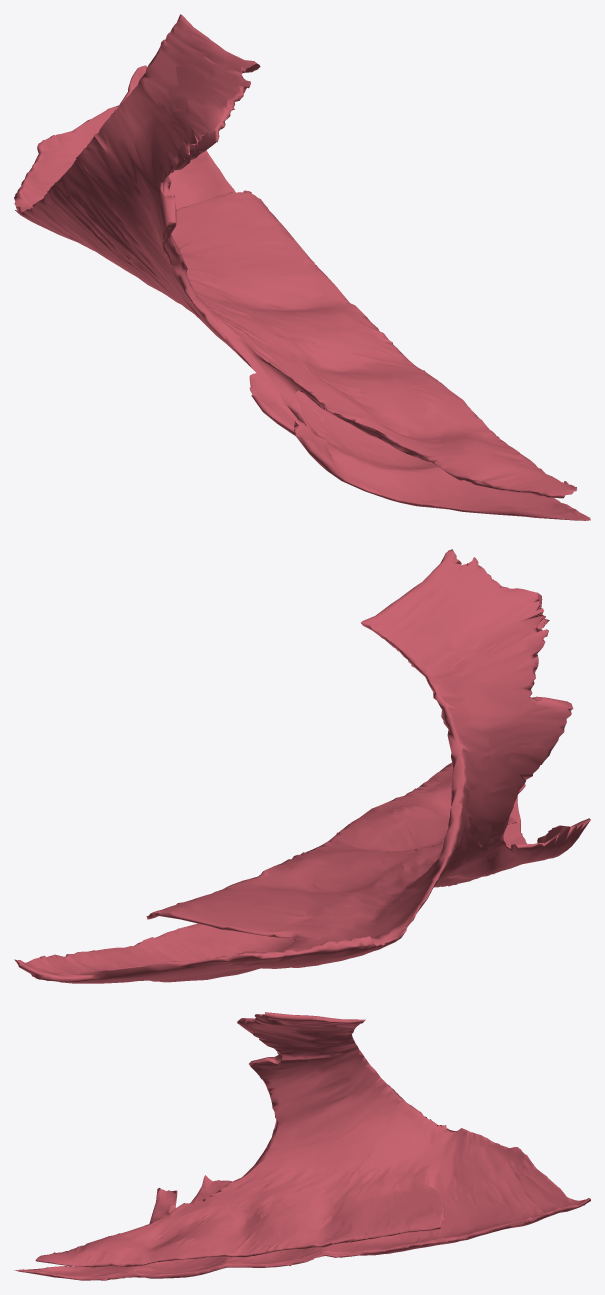
The picture shows the model from 3 angles, top to bottom: view 1: azimuth 30°, elevation 25°; view 2: azimuth 150°, elevation 25°; view 3: azimuth 270°, elevation 25°; orthographic projection. The views are drawn at different scales.
Parts seen in each view (by area): view 1: 右侧腹内斜肌; view 2: 右侧腹内斜肌; view 3: 右侧腹内斜肌.
Boxes of the visible parts, x1,y1,x2,y2 form: 右侧腹内斜肌: [14, 14, 590, 520]; 右侧腹内斜肌: [14, 549, 590, 983]; 右侧腹内斜肌: [14, 1012, 590, 1280].
Size of the model in its own units: 0.1832 by 0.2584 by 0.5766.
